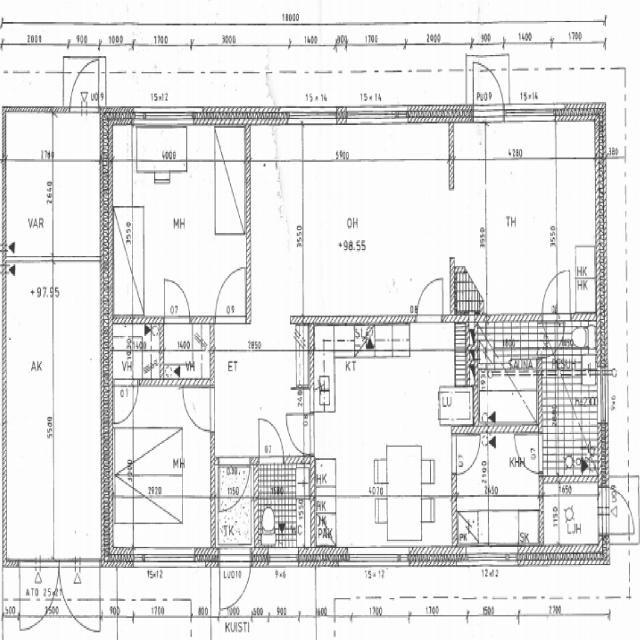door: (59, 558, 99, 628), (20, 558, 59, 628), (219, 545, 250, 614), (598, 487, 640, 535), (474, 57, 503, 124), (219, 456, 250, 512), (69, 58, 98, 111), (216, 270, 244, 324), (183, 389, 214, 433), (543, 273, 570, 323), (416, 276, 442, 323), (165, 276, 190, 324), (114, 379, 139, 425), (286, 413, 315, 452), (452, 435, 481, 474), (514, 435, 543, 474), (259, 418, 284, 463), (538, 326, 564, 360)
